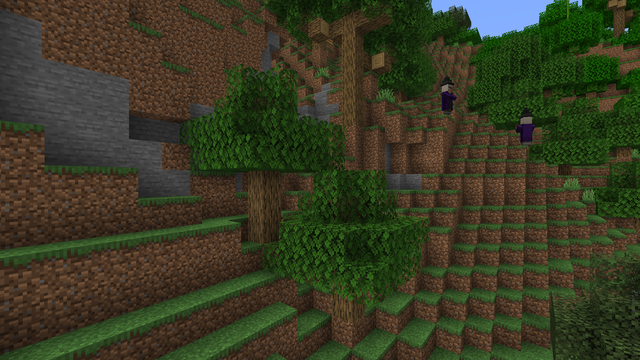sorcieres: (441, 82, 453, 114), (520, 115, 531, 145)
